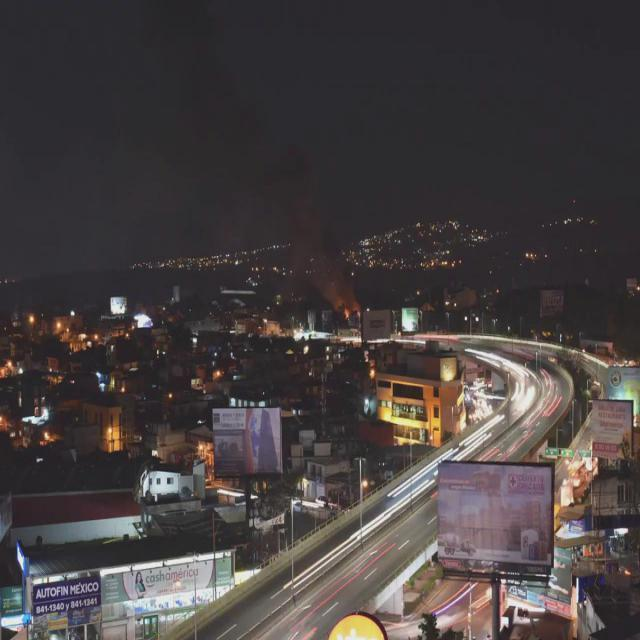Fire: (344, 306, 348, 321)
